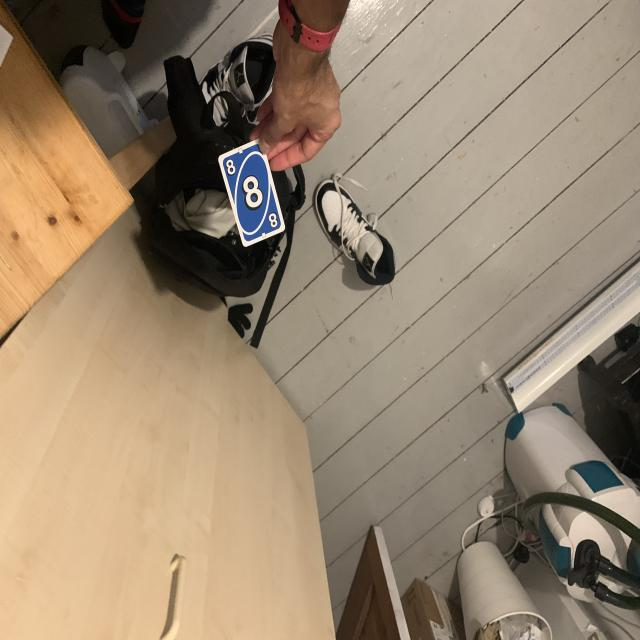lblue-8: (224, 156, 238, 178)
